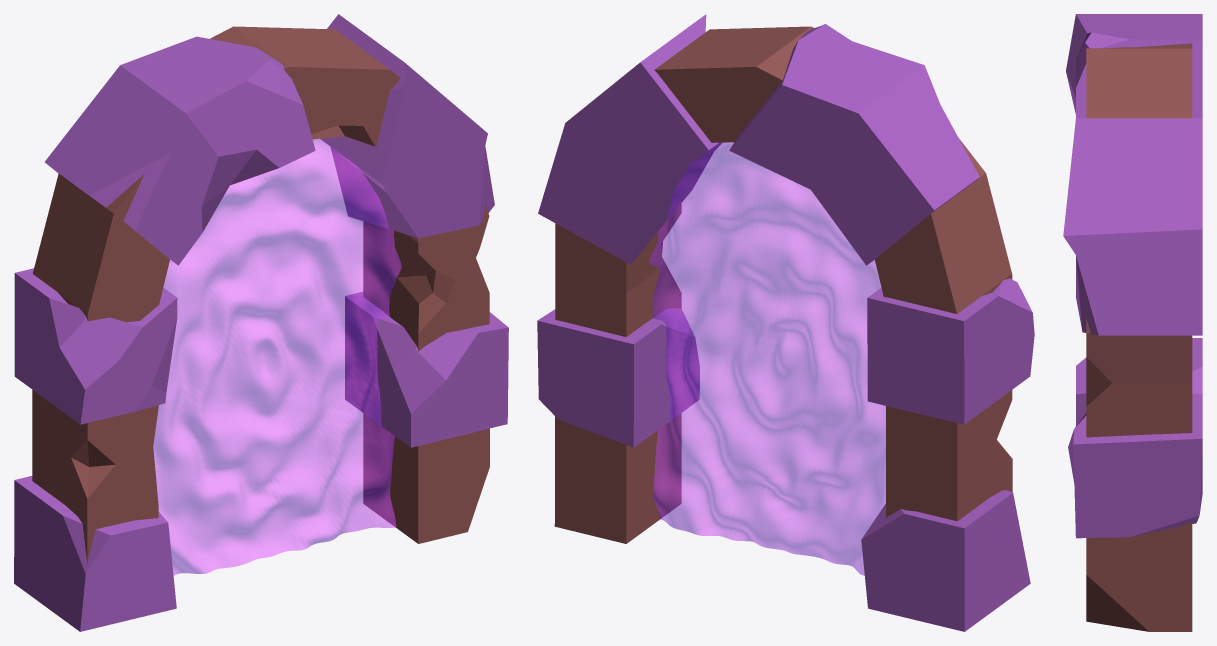
The model's file is hiko.gltf.
The picture shows the model from 3 angles, left to right: view 1: azimuth 30°, elevation 25°; view 2: azimuth 150°, elevation 25°; view 3: azimuth 270°, elevation 25°; orthographic projection. The views are drawn at different scales.
Parts seen in each view (by area): view 1: 2, 3, 1; view 2: 2, 3, 1; view 3: 2, 1.
Part boxes in pixels (x1=…): 2: x1=14, y1=14, x2=508, y2=631; 3: x1=153, y1=138, x2=401, y2=575; 1: x1=32, y1=26, x2=489, y2=562; 2: x1=537, y1=14, x2=1034, y2=631; 3: x1=649, y1=142, x2=885, y2=575; 1: x1=554, y1=26, x2=1012, y2=543; 2: x1=1063, y1=14, x2=1202, y2=538; 1: x1=1086, y1=43, x2=1192, y2=631.
Size of the model in its own units: 0.4125 by 0.4651 by 0.1182.
